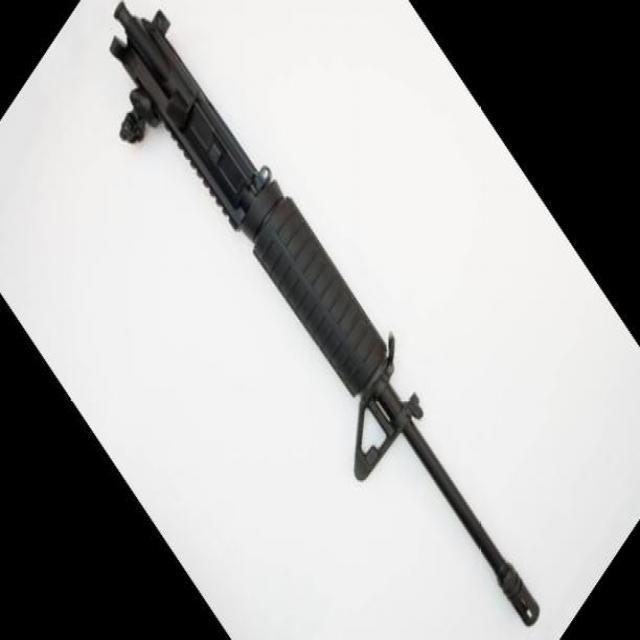weapon: (108, 2, 542, 630)
